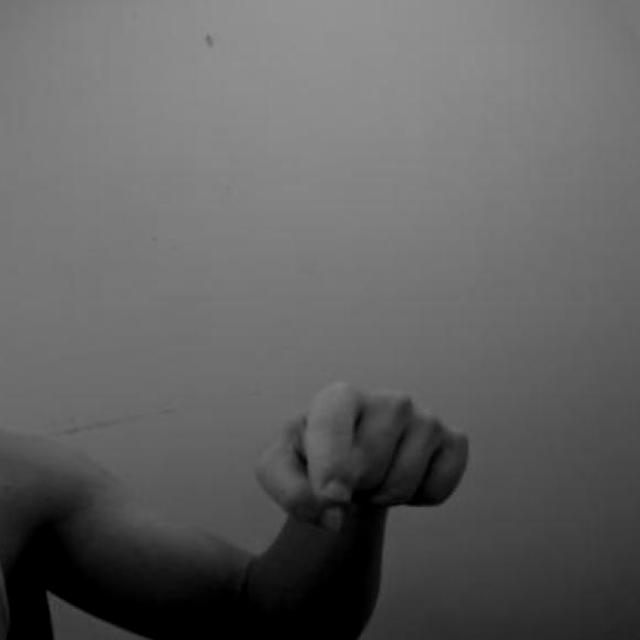Z: (248, 356, 479, 542)
